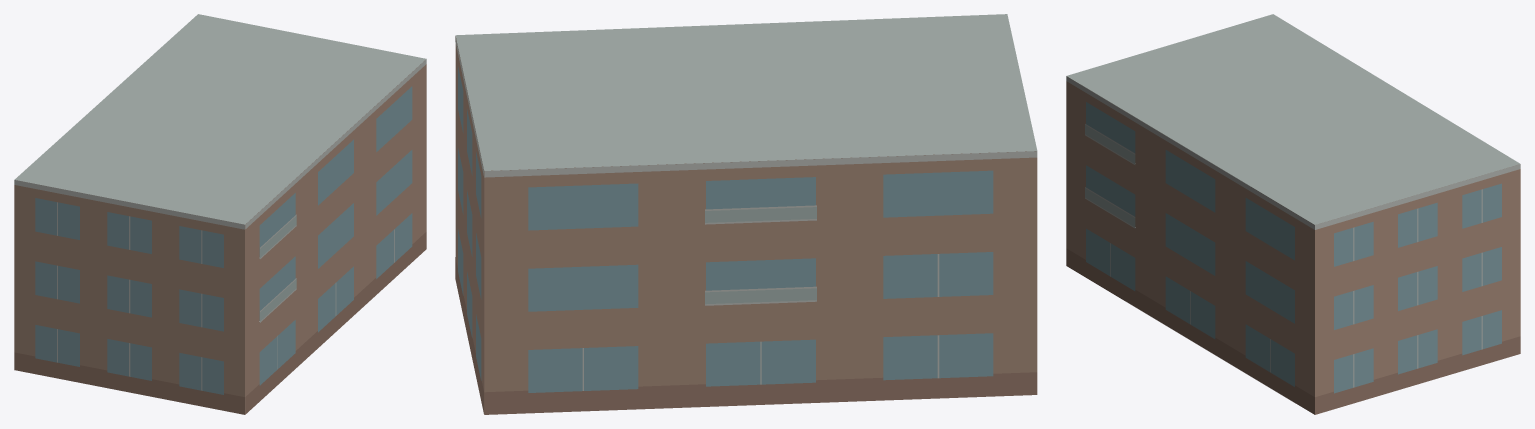
File: survey-upis-32845531.glb
The picture shows the model from 3 angles, left to right: view 1: azimuth 30°, elevation 25°; view 2: azimuth 150°, elevation 25°; view 3: azimuth 270°, elevation 25°; orthographic projection. The views are drawn at different scales.
Parts seen in each view (by area): view 1: survey-upis-32845531.tmp; view 2: survey-upis-32845531.tmp; view 3: survey-upis-32845531.tmp.
Boxes of the visible parts, box(x1,y1,x2,y2) form: survey-upis-32845531.tmp: box(14, 14, 426, 414); survey-upis-32845531.tmp: box(455, 14, 1037, 414); survey-upis-32845531.tmp: box(1066, 14, 1520, 414).
Bounding box in the file's own units: 21.81 × 9.15 × 19.85.
